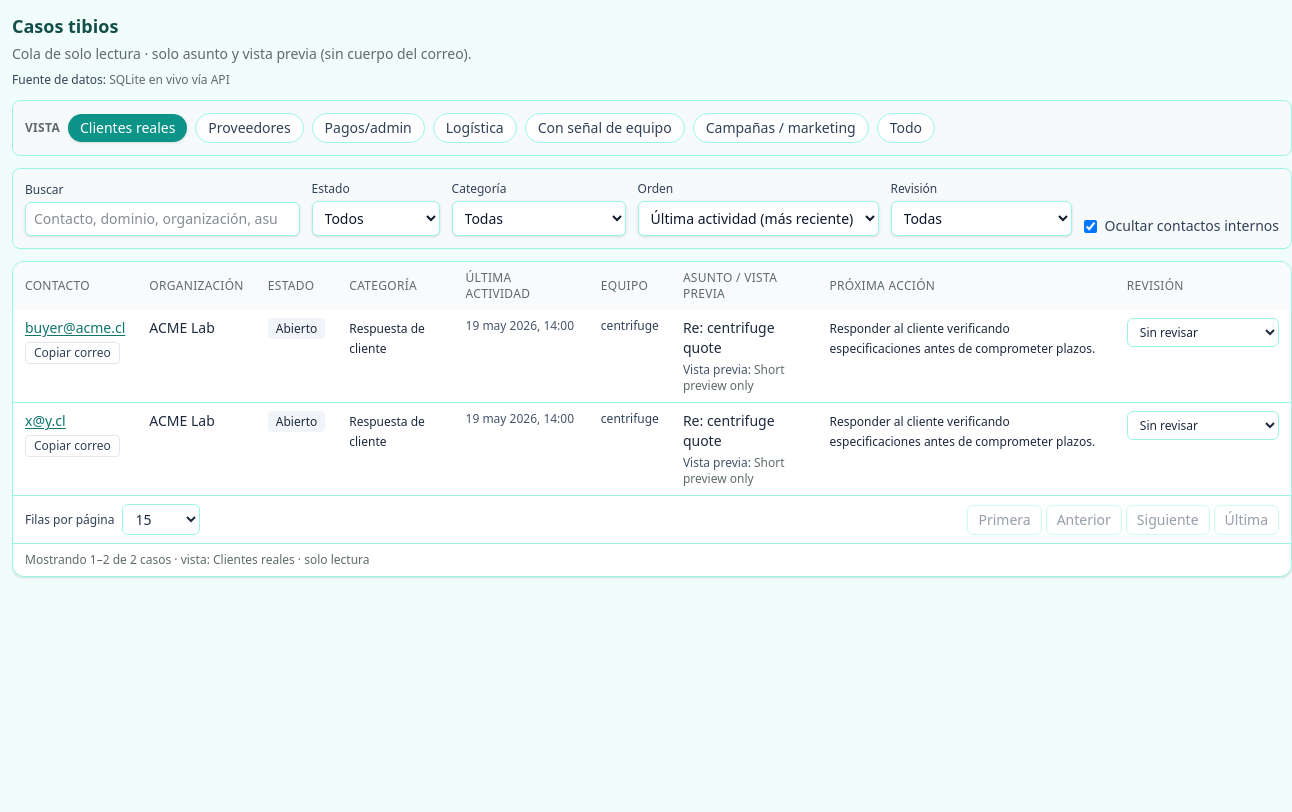
it: WarmCasesTable › shows filtered count in footer with active preset
Check: the text "Mostrando 1–2 de 2 casos" is shown, box top-left (25, 551), bottom-right (370, 568)
In the search field named "Buscar casos tibios": (162, 219) top-left (25, 202), bottom-right (300, 236), type "buyer@acme"
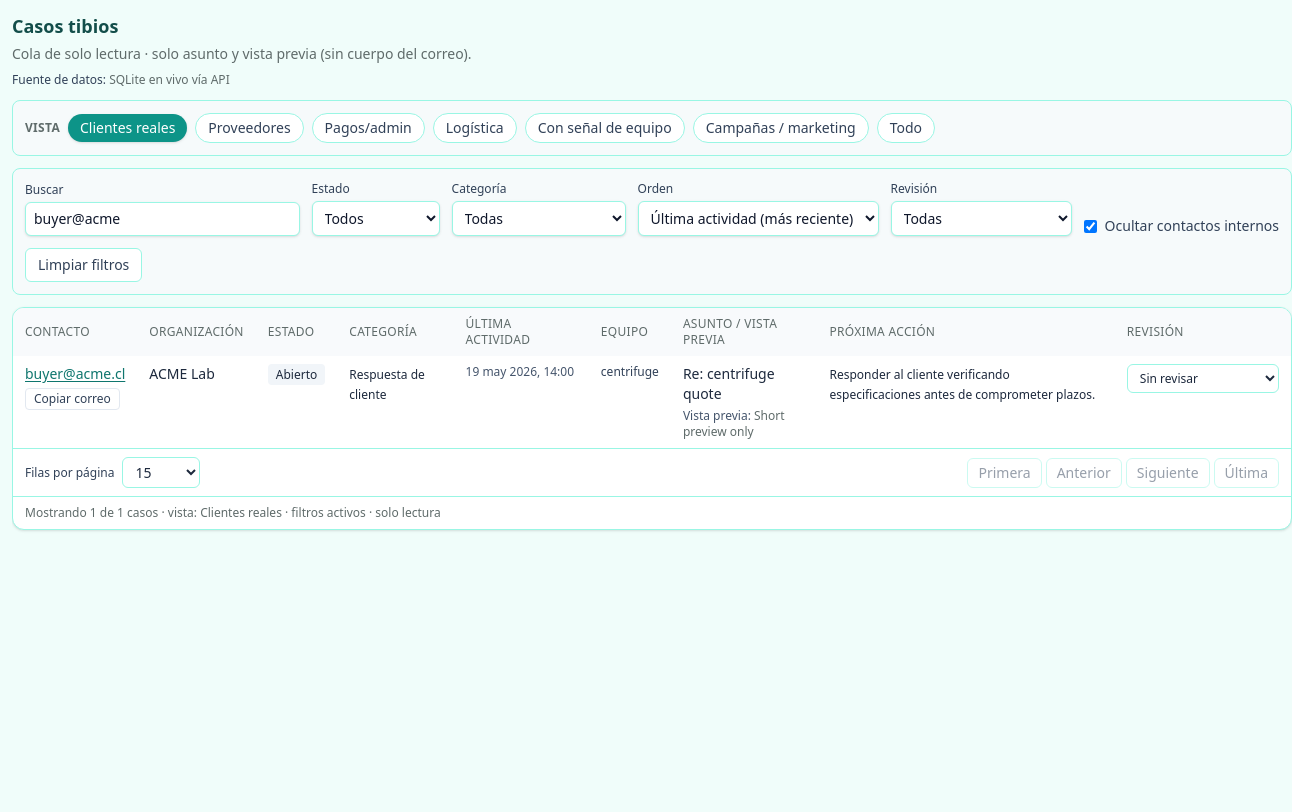
Check: the text "filtros activos" is shown, box top-left (25, 504), bottom-right (441, 521)
